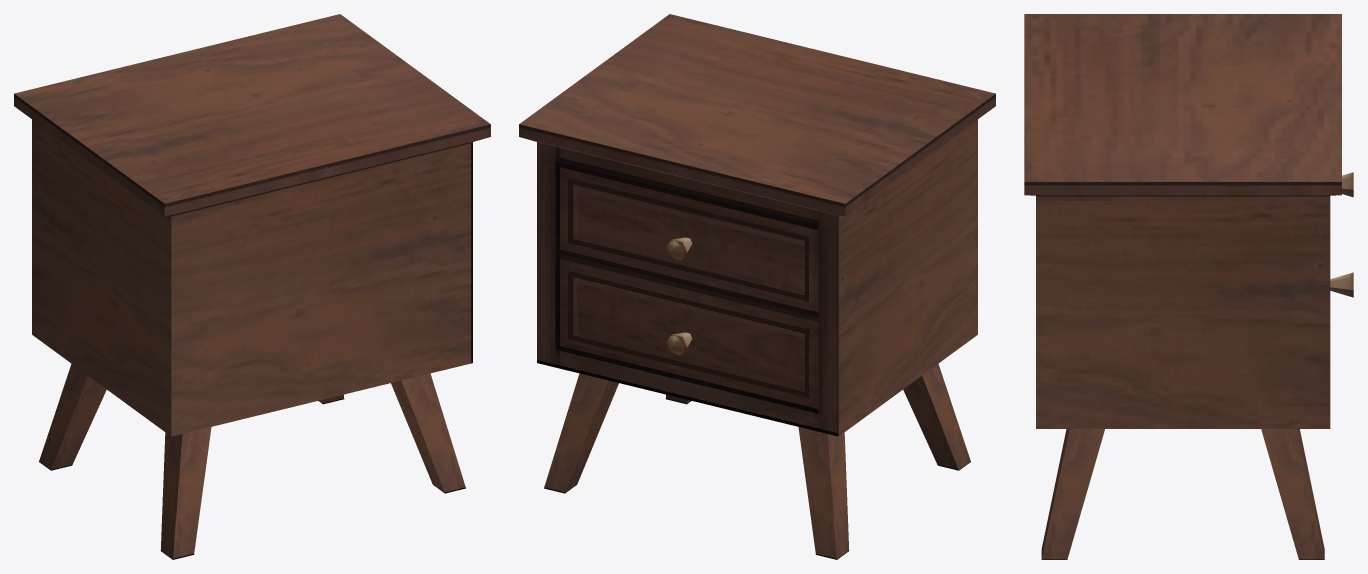
File: nightstand_uv_20251205.glb
3 renders of one model, left to right at view 1: azimuth 30°, elevation 25°; view 2: azimuth 150°, elevation 25°; view 3: azimuth 270°, elevation 25°, orthographic. The views are drawn at different scales.
Visible parts, largest first — view 1: Nightstand; view 2: Nightstand; view 3: Nightstand.
Boxes of the visible parts, left/top/right/bottom form: Nightstand: left=14, top=14, right=490, bottom=559; Nightstand: left=519, top=14, right=995, bottom=559; Nightstand: left=1024, top=14, right=1353, bottom=559.
Bounding box in the file's own units: 0.5406 × 0.58 × 0.4483.
Materials: 2 (2 with a texture image).
